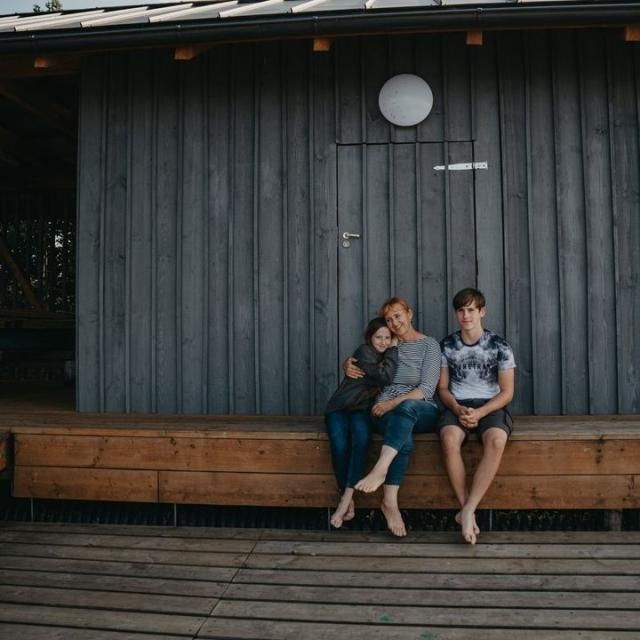adult: (355, 297, 441, 536), (440, 287, 516, 545)
child: (326, 318, 398, 528)
